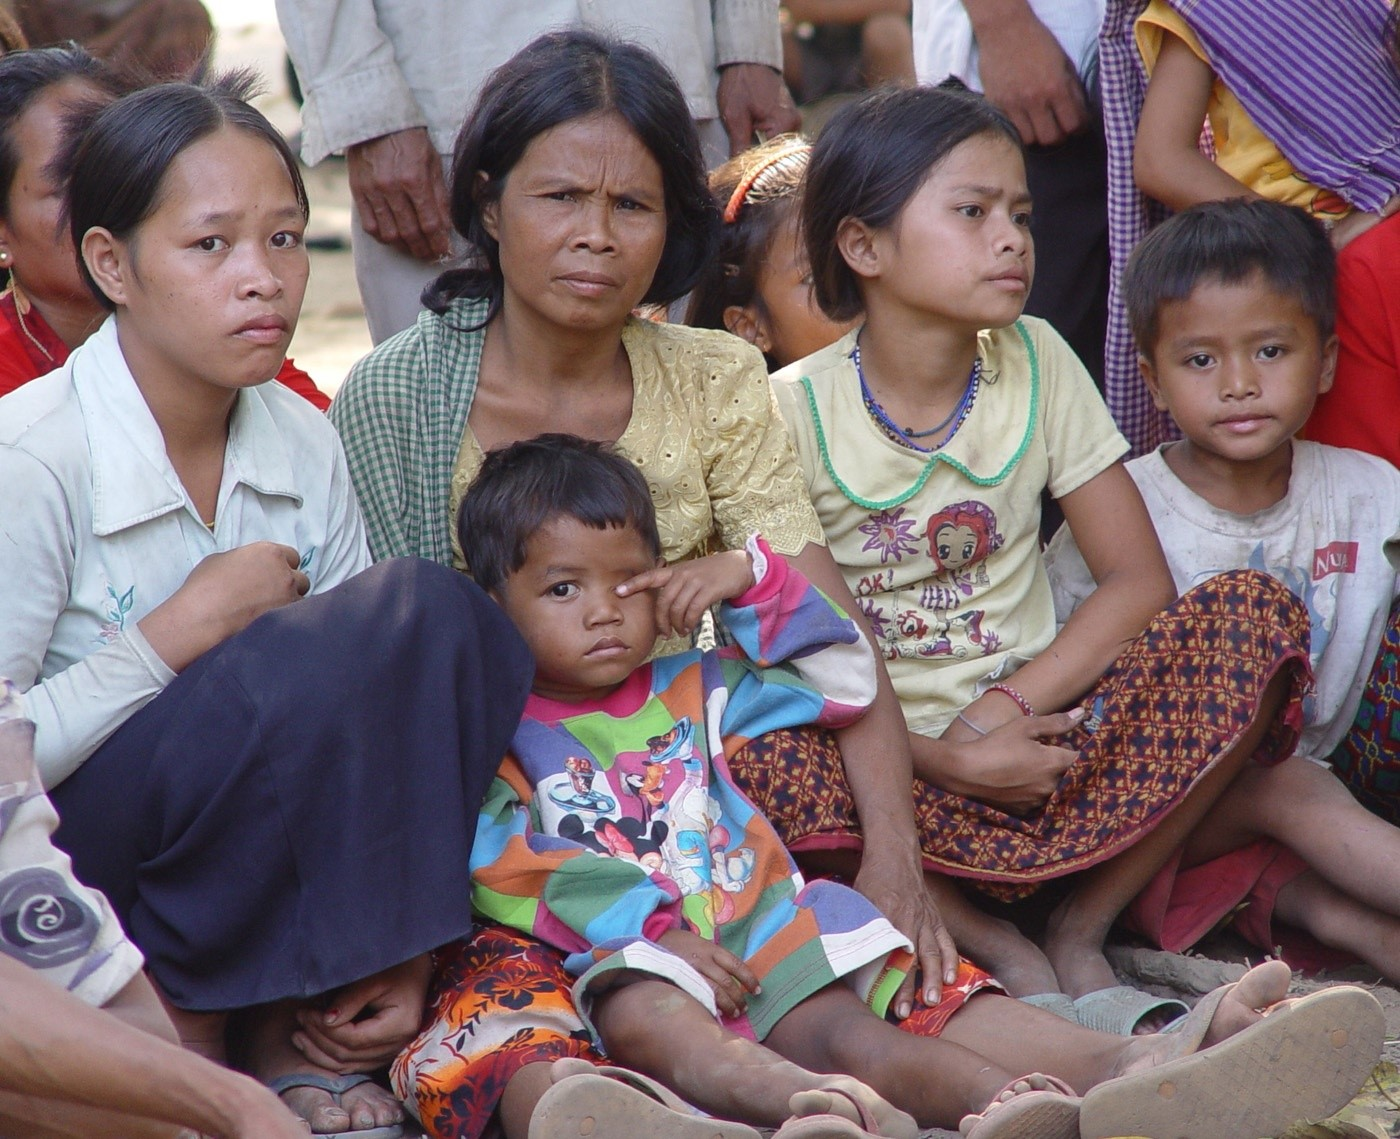face_no_mask: (452, 30, 697, 328), (76, 83, 308, 389), (1129, 197, 1346, 456), (805, 91, 1037, 328), (458, 436, 661, 692), (697, 138, 867, 361), (3, 45, 122, 299)
